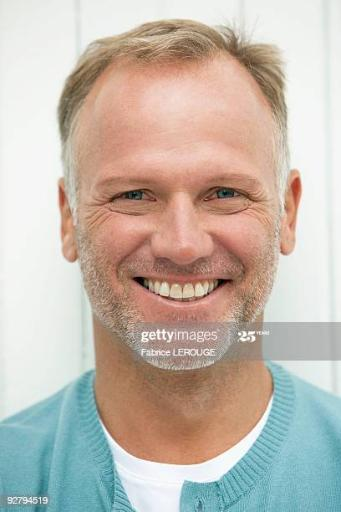left_eye: (199, 186, 250, 209)
left_lip_corner: (221, 273, 237, 295)
right_eye: (108, 186, 161, 207)
right_lip_corner: (128, 271, 145, 293)
